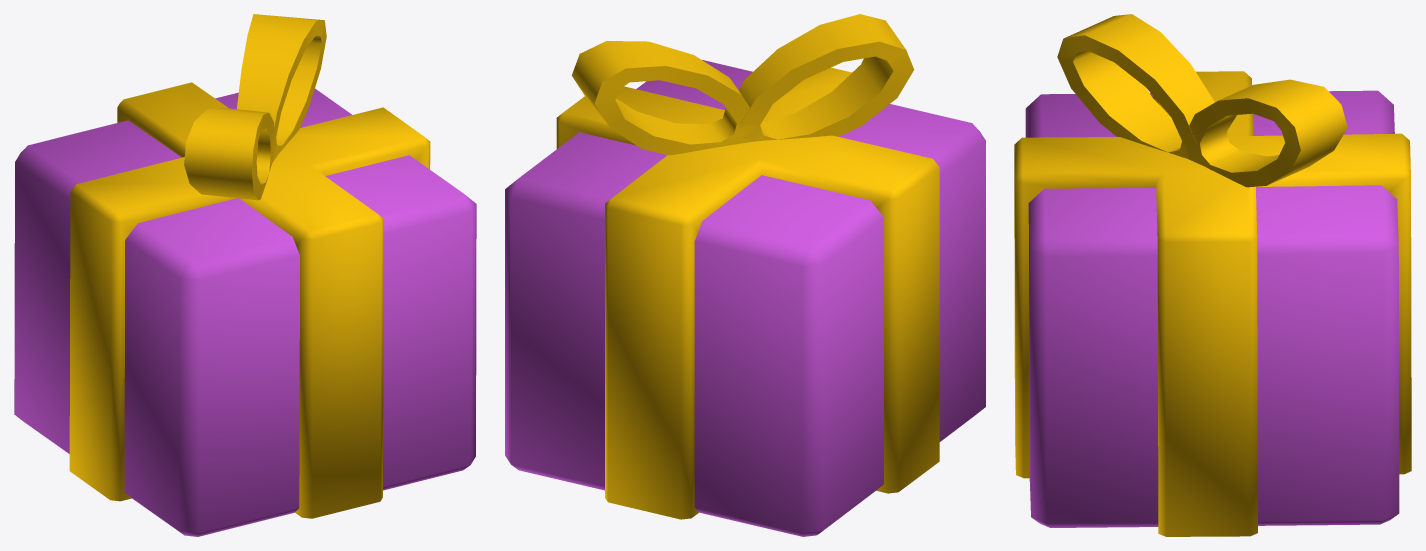
Rendered from Giftbox.fbx.
3 renders of one model, left to right at view 1: azimuth 30°, elevation 25°; view 2: azimuth 150°, elevation 25°; view 3: azimuth 270°, elevation 25°, orthographic. The views are drawn at different scales.
Parts seen in each view (by area): view 1: giftsbox; view 2: giftsbox; view 3: giftsbox.
Boxes of the visible parts, <box> form: giftsbox: <box>14,14,476,536</box>; giftsbox: <box>505,14,985,536</box>; giftsbox: <box>1014,14,1411,536</box>.
Size of the model in its own units: 34.65 by 38.59 by 34.92.
